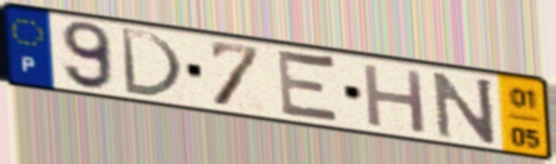7: (207, 39, 265, 109)
9: (59, 18, 116, 92)
D: (116, 24, 186, 101)
E: (276, 45, 345, 128)
H: (360, 60, 430, 137)
N: (429, 69, 501, 147)
